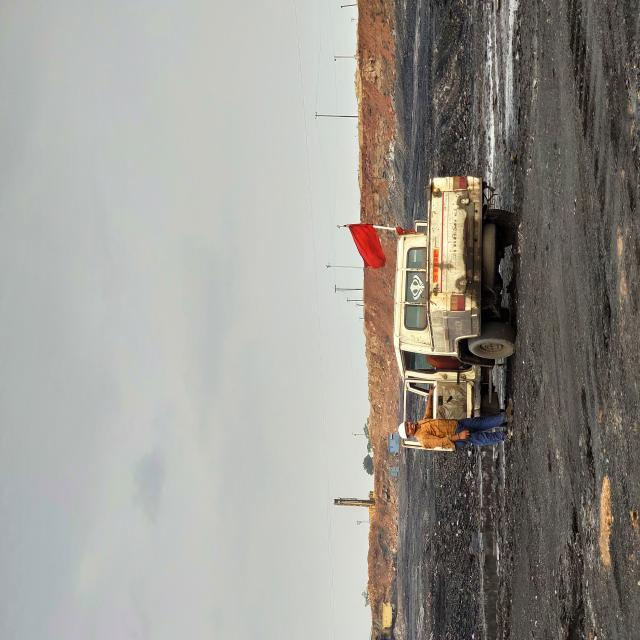dump_truck: (146, 526, 349, 640)
